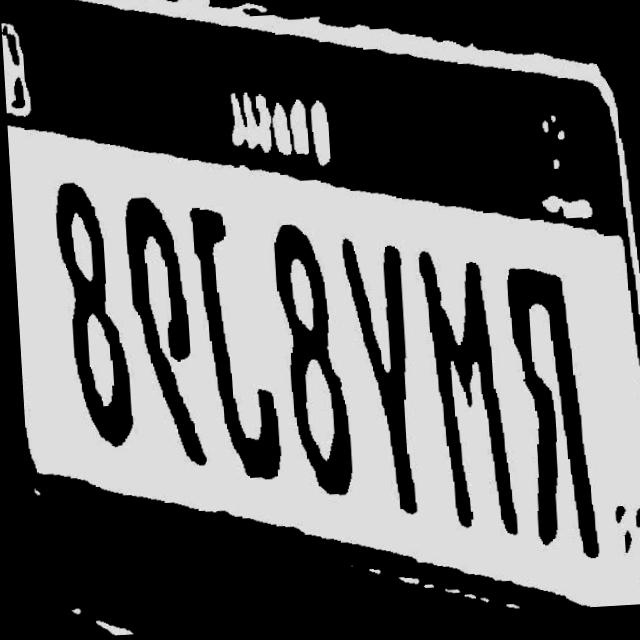8: (264, 226, 346, 517), (48, 174, 129, 452)
9: (121, 190, 198, 473)
j: (184, 203, 276, 488)
m: (414, 249, 514, 543)
r: (502, 264, 596, 566)
y: (331, 236, 415, 525)
